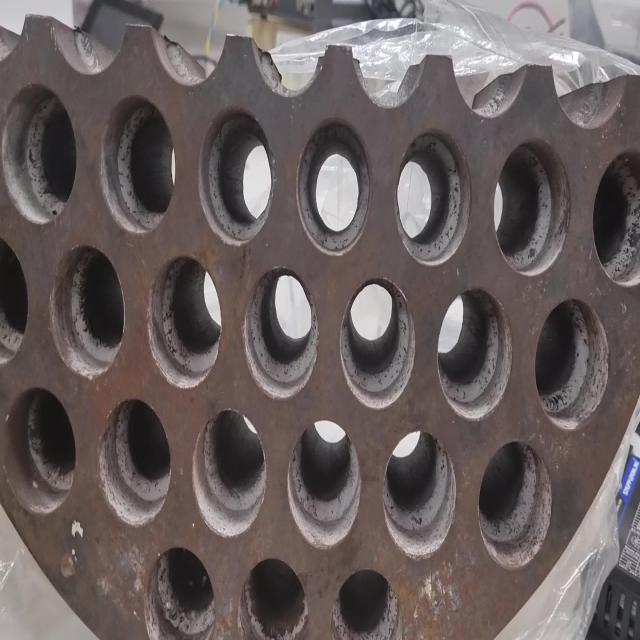Hole: (492, 138, 572, 276), (1, 82, 77, 224), (394, 128, 472, 266), (99, 94, 175, 234), (296, 116, 371, 257), (198, 106, 273, 246), (437, 285, 512, 420), (49, 244, 124, 379), (339, 277, 415, 410), (147, 255, 222, 389), (534, 298, 610, 430), (243, 268, 318, 400), (2, 385, 77, 516), (382, 430, 457, 560), (96, 398, 172, 526), (287, 420, 361, 550), (192, 408, 266, 538), (478, 440, 552, 570), (144, 544, 216, 640), (592, 148, 640, 286), (237, 556, 309, 640), (331, 567, 403, 640), (0, 234, 28, 366)
